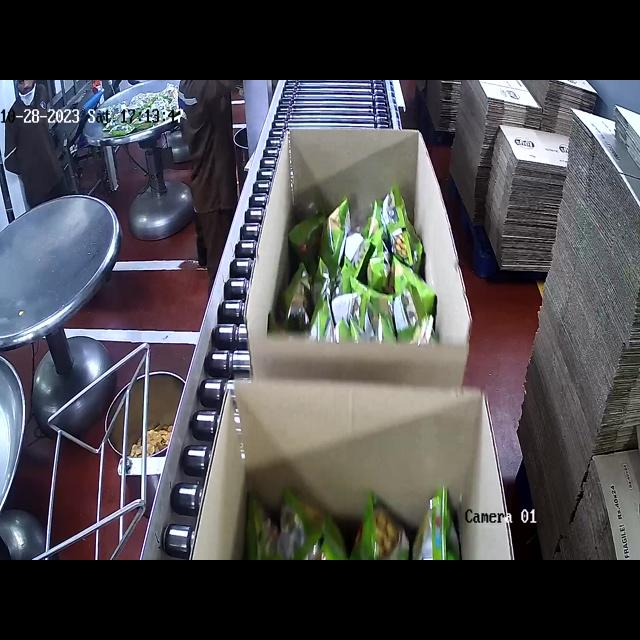yogurt: (242, 475, 468, 560), (302, 203, 418, 332)
